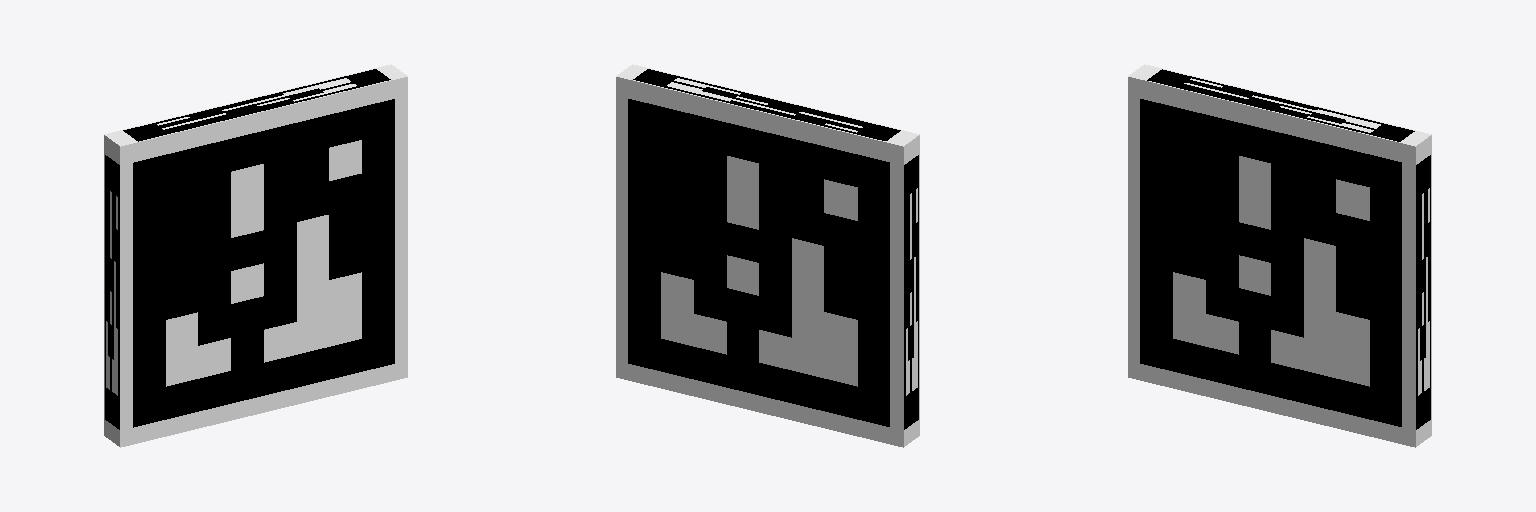
3 views of the same model, side by side, from view 1: azimuth 30°, elevation 25°; view 2: azimuth 150°, elevation 25°; view 3: azimuth 330°, elevation 25° (orthographic).
Parts seen in each view (by area): view 1: Cube; view 2: Cube; view 3: Cube.
Part boxes in pixels (bbox=[...]): Cube: bbox=[104, 64, 407, 447]; Cube: bbox=[616, 64, 919, 447]; Cube: bbox=[1128, 64, 1431, 447].
Bounding box in the file's own units: 2 × 2 × 0.2.
Materials: 1 (1 with a texture image).